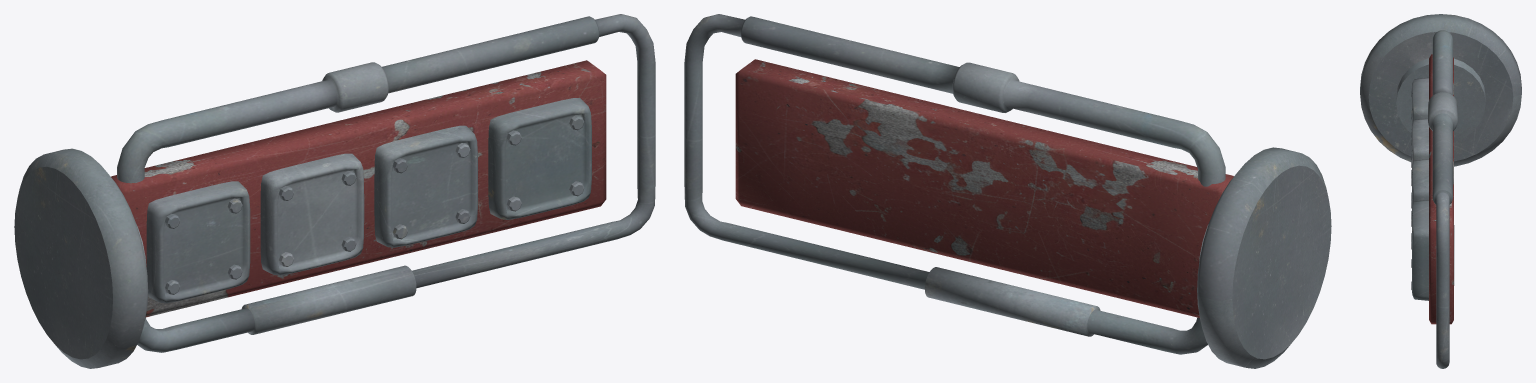
File: ShipsEngineDebris4.fbx
The picture shows the model from 3 angles, left to right: view 1: azimuth 30°, elevation 25°; view 2: azimuth 150°, elevation 25°; view 3: azimuth 270°, elevation 25°; orthographic projection. The views are drawn at different scales.
Parts seen in each view (by area): view 1: Cylinder.001; view 2: Cylinder.001; view 3: Cylinder.001.
Boxes of the visible parts, <box> form: Cylinder.001: <box>14,14,655,368</box>; Cylinder.001: <box>684,14,1331,368</box>; Cylinder.001: <box>1360,14,1521,368</box>.
Size of the model in its own units: 1119 by 432 by 361.
